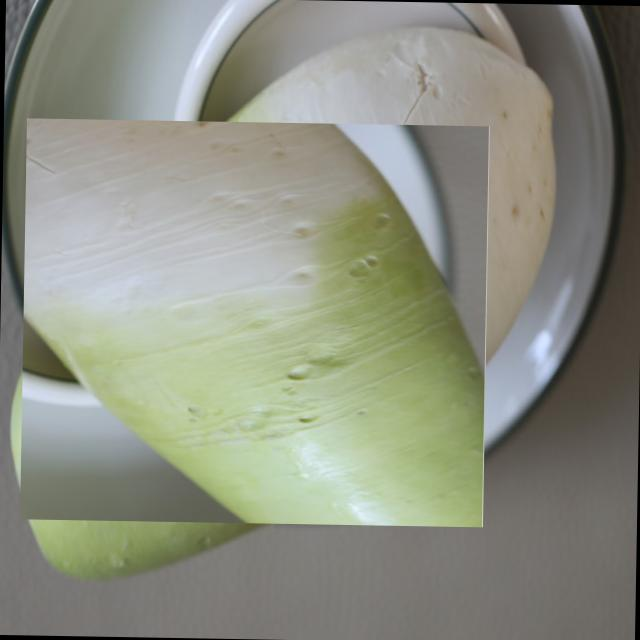radish: (34, 102, 474, 542)
